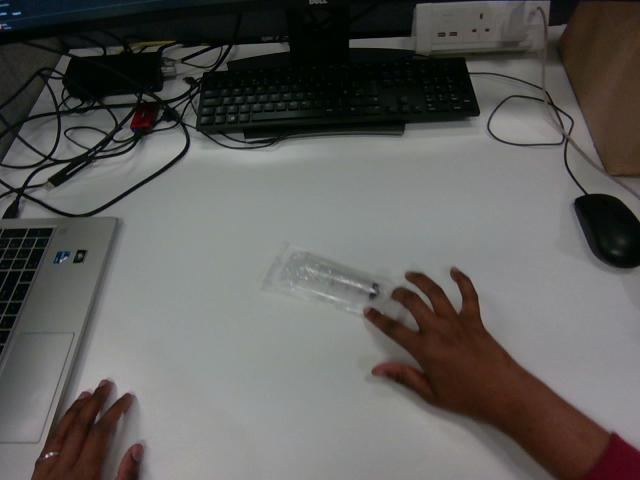syringe: (263, 243, 394, 313)
